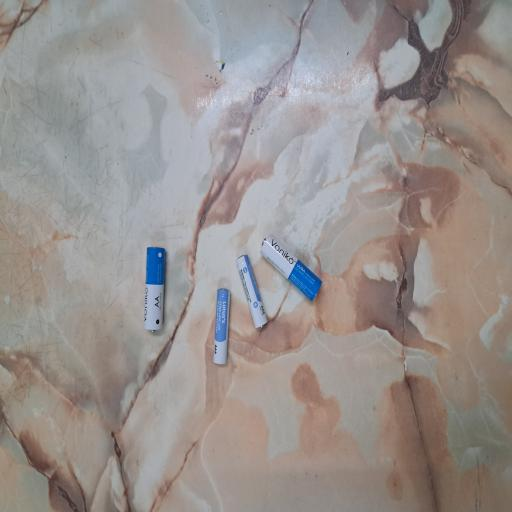battery: (157, 346, 209, 432), (137, 314, 194, 359), (134, 189, 200, 223), (110, 283, 168, 309)
